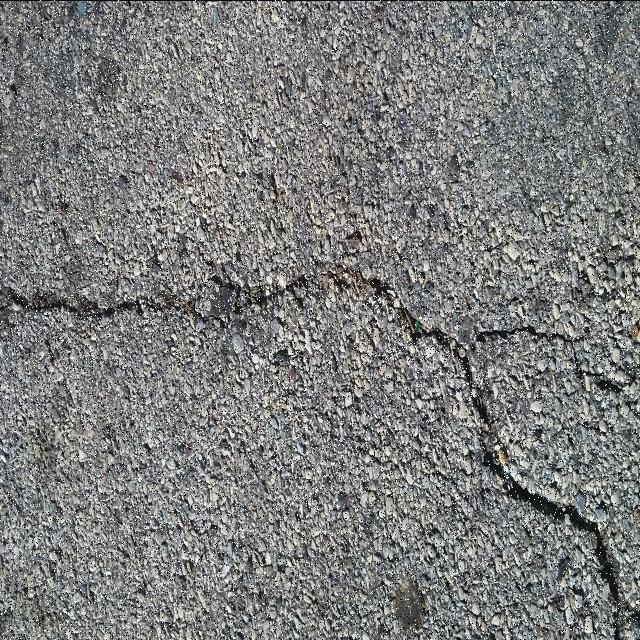Crack: (327, 262, 640, 640), (0, 272, 312, 325)
